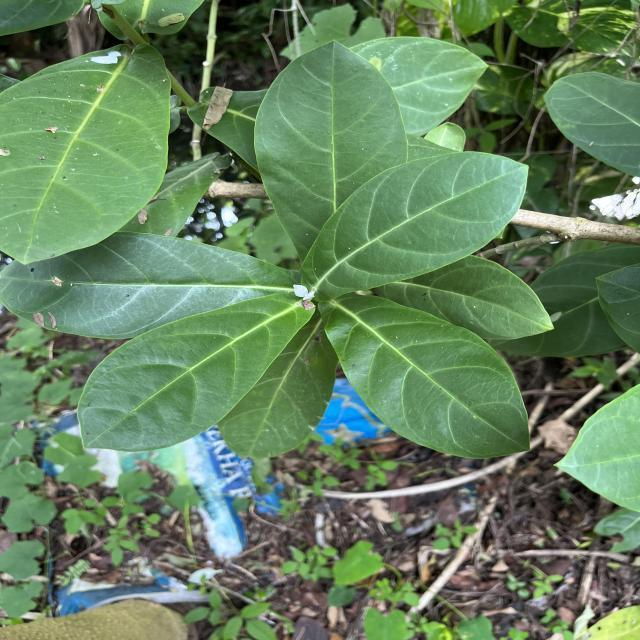Calotropis gigantea: (75, 288, 318, 452), (0, 40, 174, 266), (316, 293, 534, 462), (250, 38, 410, 264), (296, 149, 530, 301), (0, 231, 296, 341), (218, 320, 340, 460)
